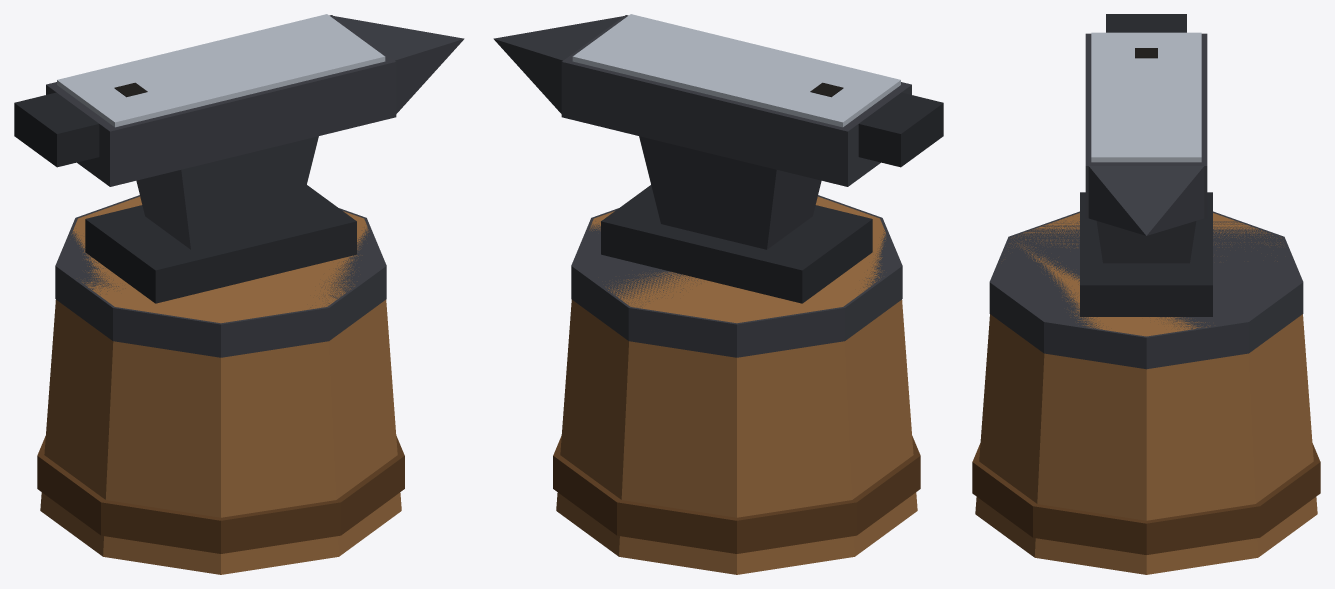
Rendered from anvil.glb.
3 renders of one model, left to right at view 1: azimuth 30°, elevation 25°; view 2: azimuth 150°, elevation 25°; view 3: azimuth 270°, elevation 25°, orthographic. The views are drawn at different scales.
Parts seen in each view (by area): view 1: anvil; view 2: anvil; view 3: anvil.
Part boxes in pixels (bbox=[...]): anvil: bbox=[14, 14, 464, 574]; anvil: bbox=[493, 14, 943, 574]; anvil: bbox=[972, 14, 1320, 574].
Bounding box in the file's own units: 0.81 × 0.775 × 0.6007.
